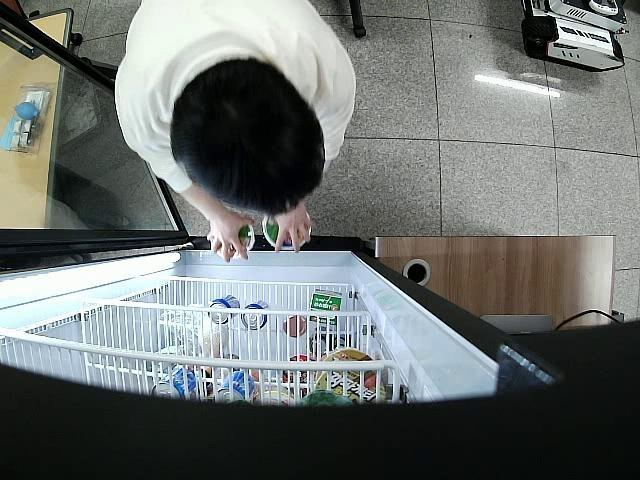09_yukGaeJang: (213, 222, 254, 260), (262, 214, 302, 252)
